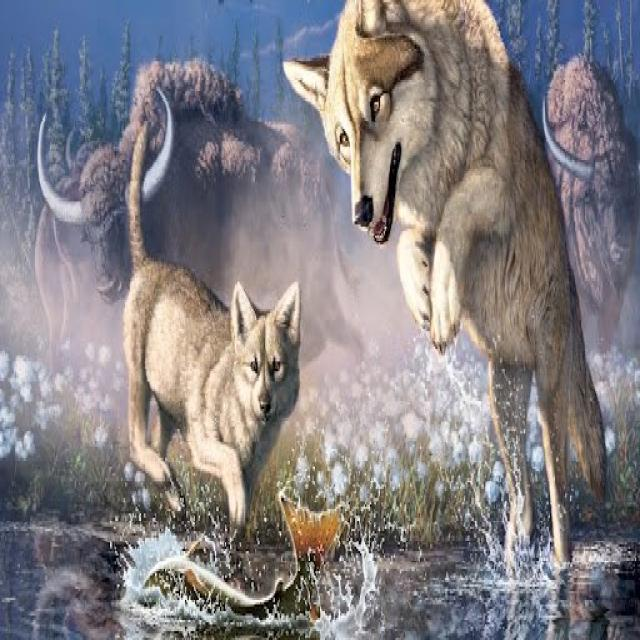Wolf: (281, 0, 607, 573), (122, 87, 302, 531)
